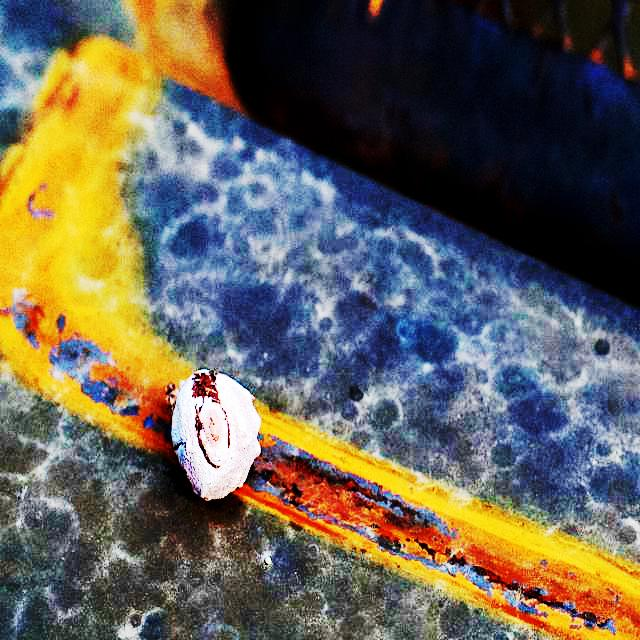Corrosion: (237, 408, 640, 640), (0, 40, 189, 462)
